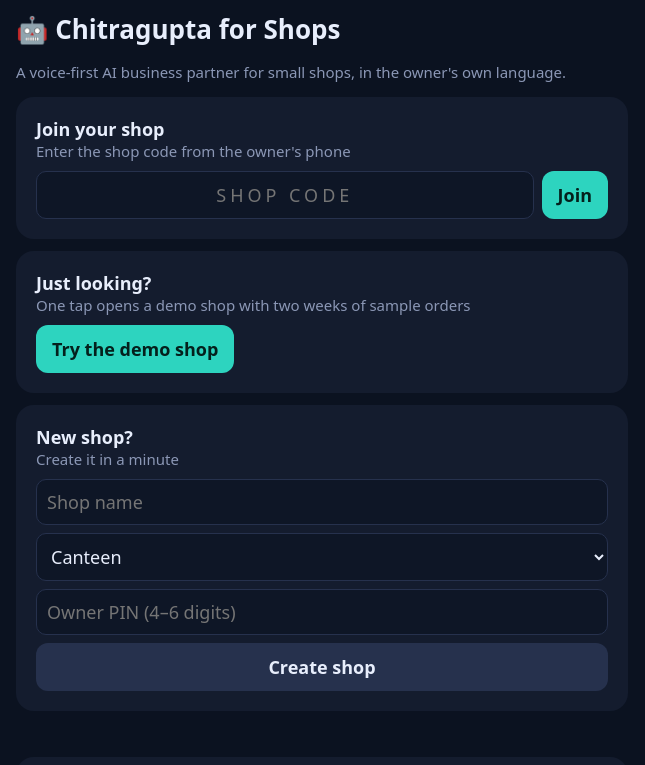
Scenario: Landing (multi-shop) › shows server errors from signup
Click the button "Create shop" at (322,667), box 36,643 -> 608,691
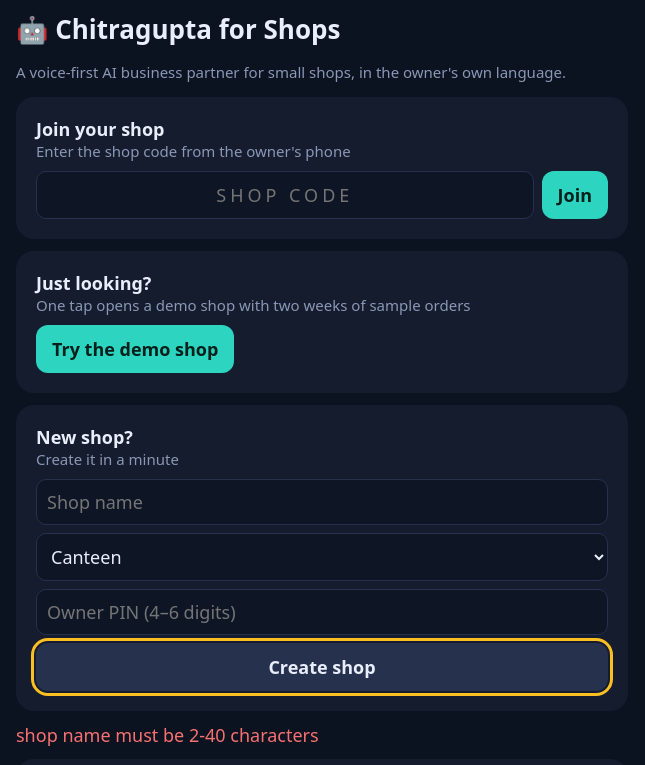
Expected: the message reads "shop name must be 2-40 characters", 16,723 -> 319,747
